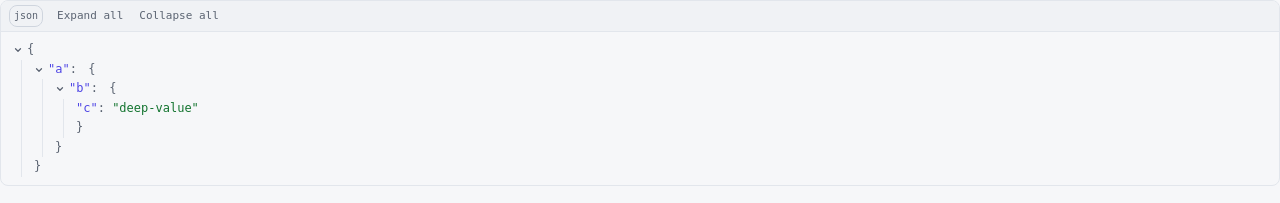
Scenario: JsonTree › expand-all / collapse-all reaches deeply nested nodes
The width and height of the screenshot is (1280, 203).
Expected: the text "\"deep-value\"" is shown, [112, 101, 199, 115]
What coordinates should you click on to do the following:
click the button "Collapse all"
I would click on:
 (179, 16)
Its box is [133, 5, 225, 27].
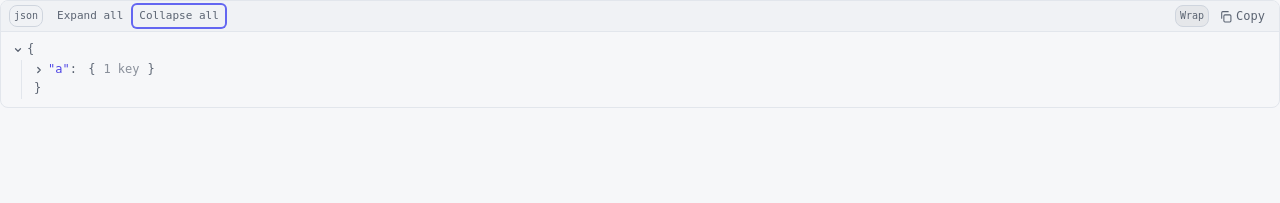
Now the text "deep-value" is gone
What coordinates should you click on to do the following:
click the button "Expand all"
I would click on:
 (90, 16)
Its box is [51, 5, 129, 27].
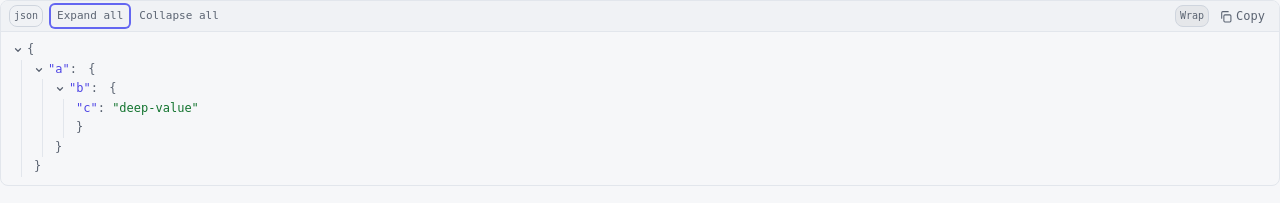
Now the text "\"deep-value\"" is shown, box [112, 101, 199, 115]
